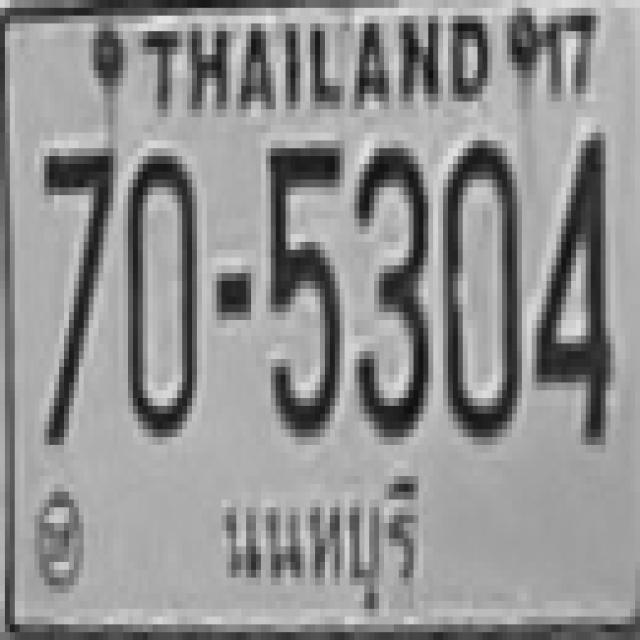0: (438, 137, 517, 433), (126, 148, 194, 430)
3: (349, 144, 424, 433)
4: (532, 125, 606, 437)
5: (266, 140, 340, 430)
7: (40, 144, 114, 441), (40, 145, 114, 355)
Nonthaburi: (216, 467, 432, 611)
